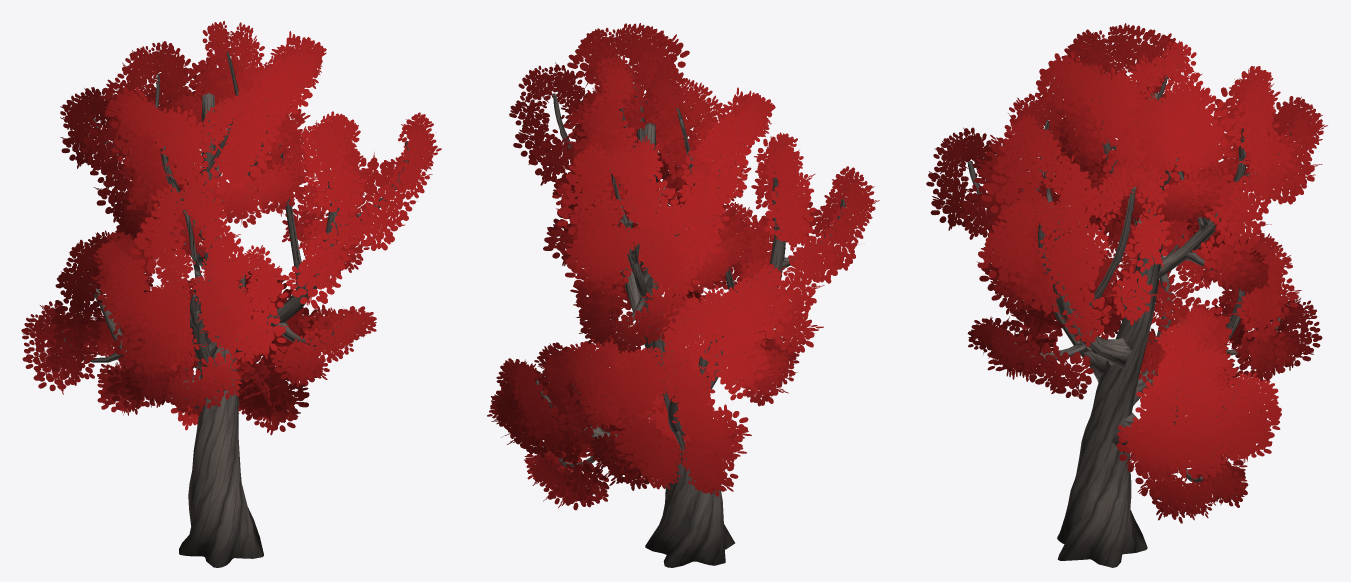
The model's file is twisted-tree-3.glb.
3 views of the same model, side by side, from view 1: azimuth 30°, elevation 25°; view 2: azimuth 150°, elevation 25°; view 3: azimuth 270°, elevation 25° (orthographic). The views are drawn at different scales.
Parts seen in each view (by area): view 1: TwistedTree_3; view 2: TwistedTree_3; view 3: TwistedTree_3.
Part boxes in pixels (x1=…): TwistedTree_3: x1=21, y1=21, x2=441, y2=567; TwistedTree_3: x1=487, y1=23, x2=879, y2=567; TwistedTree_3: x1=926, y1=23, x2=1327, y2=567.
Size of the model in its own units: 11.36 by 16.07 by 11.51.
2 materials, 2 textured.
